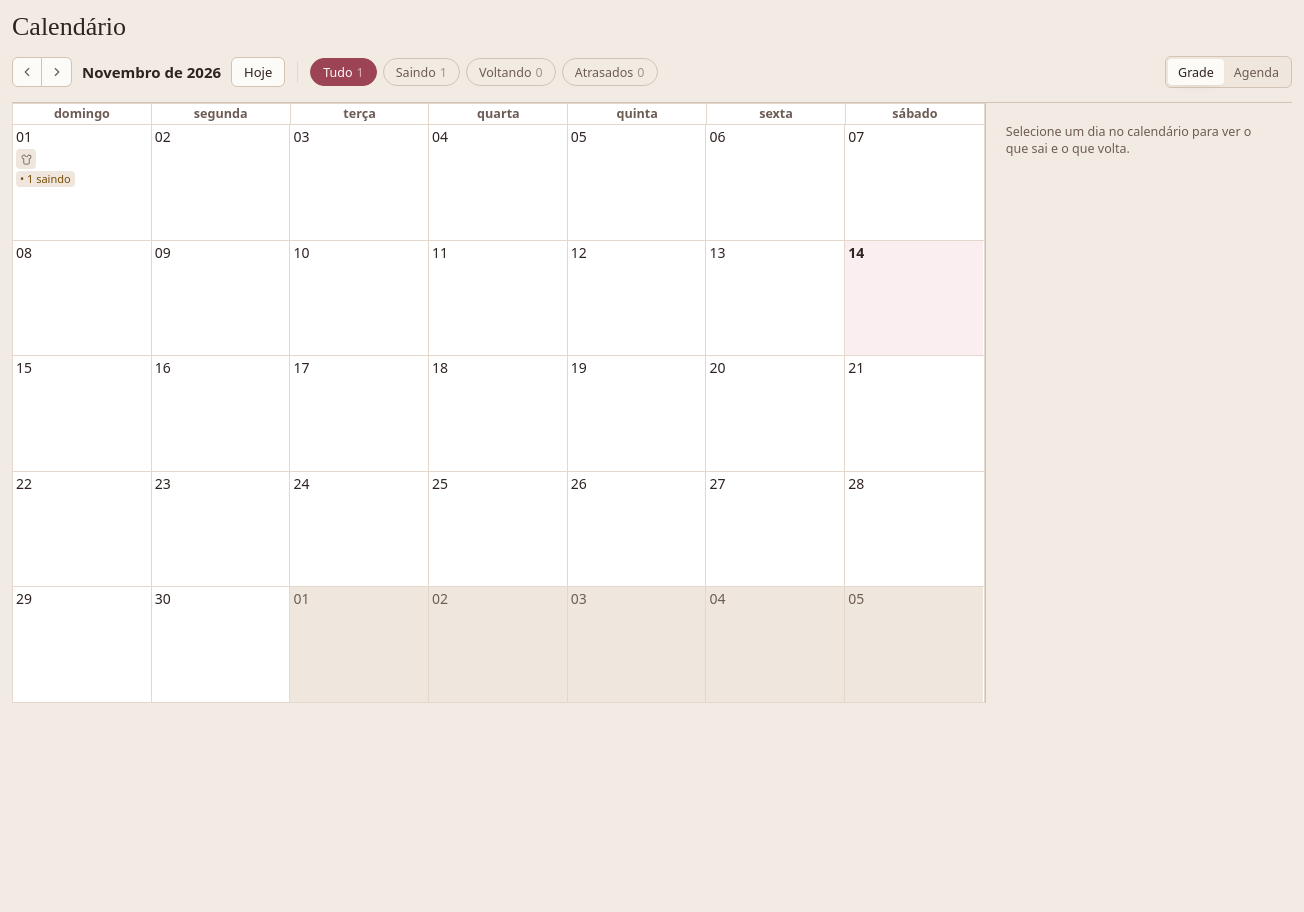
Test: CalendarPage › renders the product name looked up from useProducts when the productId matches
Click the button "Agenda" at (1256, 72), box 1224,59 -> 1289,85
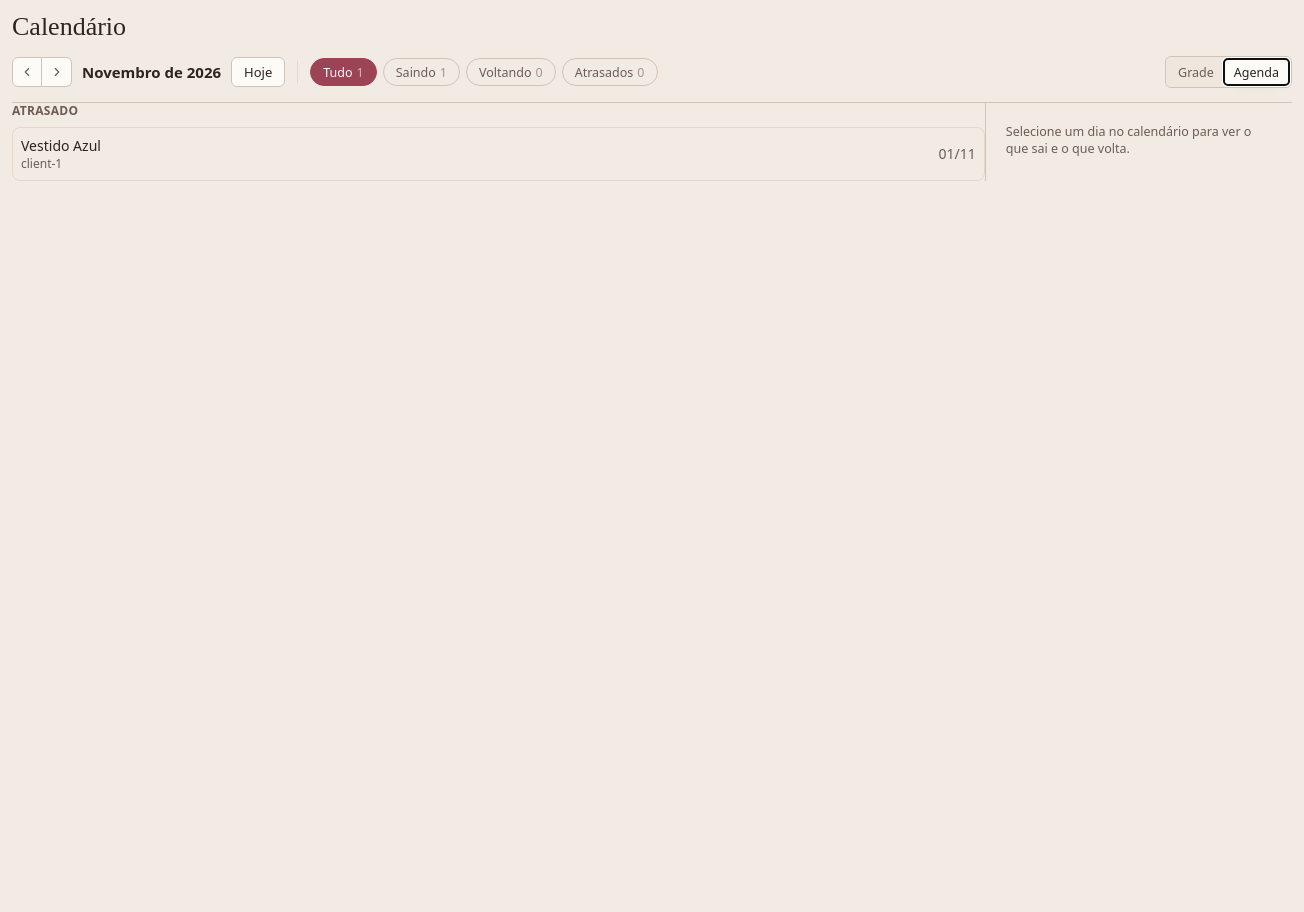
Expected: the text "Vestido Azul" is shown, 21,136 -> 101,156
